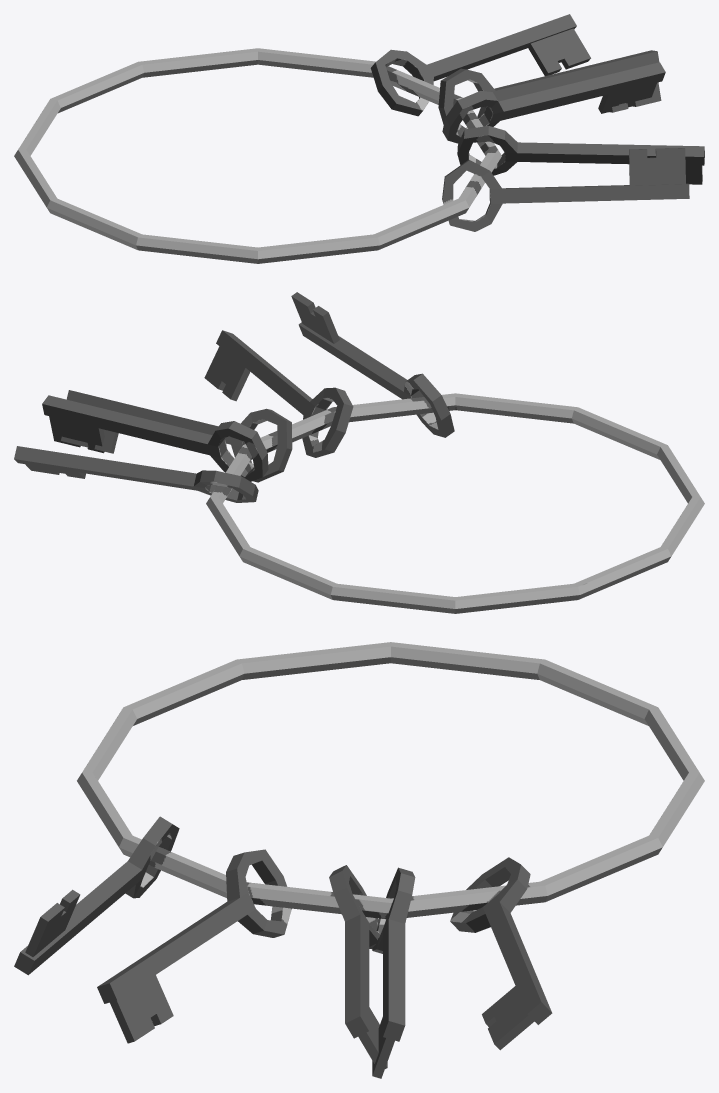
The model's file is key_loop.fbx.
3 renders of one model, top to bottom at view 1: azimuth 30°, elevation 25°; view 2: azimuth 150°, elevation 25°; view 3: azimuth 270°, elevation 25°, orthographic. The views are drawn at different scales.
Visible parts, largest first — view 1: key_loop_baked; view 2: key_loop_baked; view 3: key_loop_baked.
Part boxes in pixels (box(x1,y1,x2,y2)): key_loop_baked: box(14, 14, 704, 263); key_loop_baked: box(14, 292, 704, 613); key_loop_baked: box(14, 642, 704, 1078).
Size of the model in its own units: 17.03 by 1.99 by 12.98.
Materials: 1 (1 with a texture image).
